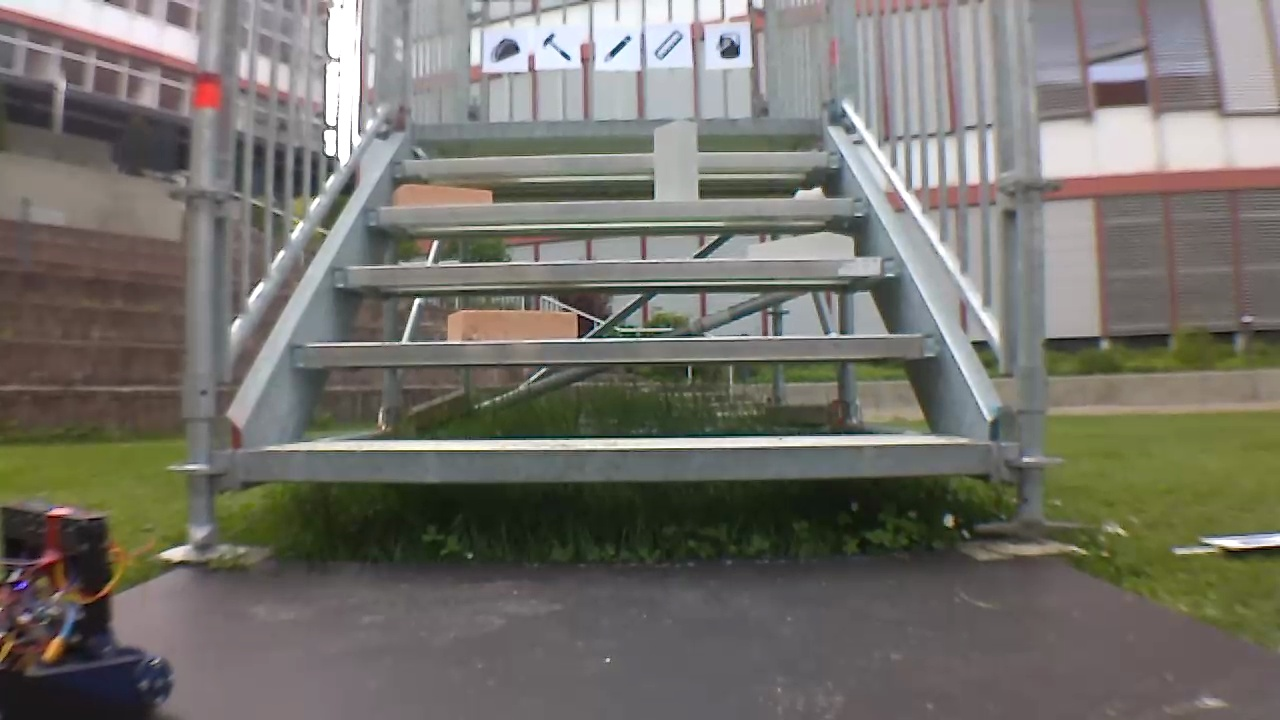brick: (445, 310, 576, 341), (654, 119, 695, 199), (394, 183, 490, 207)
bucket: (712, 29, 743, 63)
edge: (237, 441, 995, 481), (292, 334, 937, 365), (332, 257, 899, 284), (363, 197, 869, 223), (393, 152, 839, 172), (411, 116, 823, 136)
hammer: (536, 30, 572, 63)
pencil: (596, 31, 633, 64)
ruler: (651, 25, 687, 61)
stairs: (169, 1, 1070, 557)
steps: (228, 112, 1002, 489)
taco: (486, 35, 523, 66)
